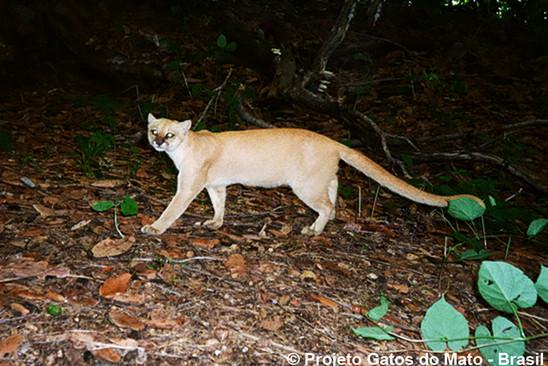Jaguarundi: (135, 107, 489, 244)
